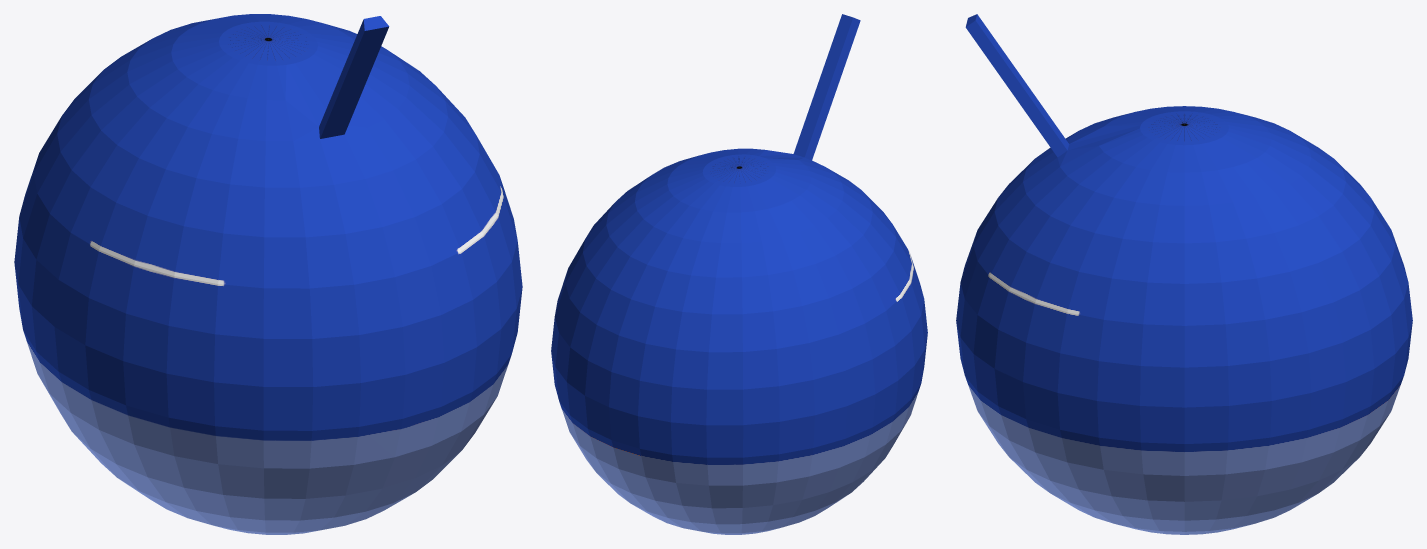
Rendered from blueEnemy.obj.
The picture shows the model from 3 angles, left to right: view 1: azimuth 30°, elevation 25°; view 2: azimuth 150°, elevation 25°; view 3: azimuth 270°, elevation 25°; orthographic projection. The views are drawn at different scales.
Parts seen in each view (by area): view 1: 球; view 2: 球; view 3: 球.
Part boxes in pixels (x1,y1,x2,y2): 球: (14, 14, 522, 534); 球: (551, 14, 927, 534); 球: (956, 14, 1412, 534).
Size of the model in its own units: 1.03 by 1.36 by 1.14.
Materials: 1 (1 with a texture image).
